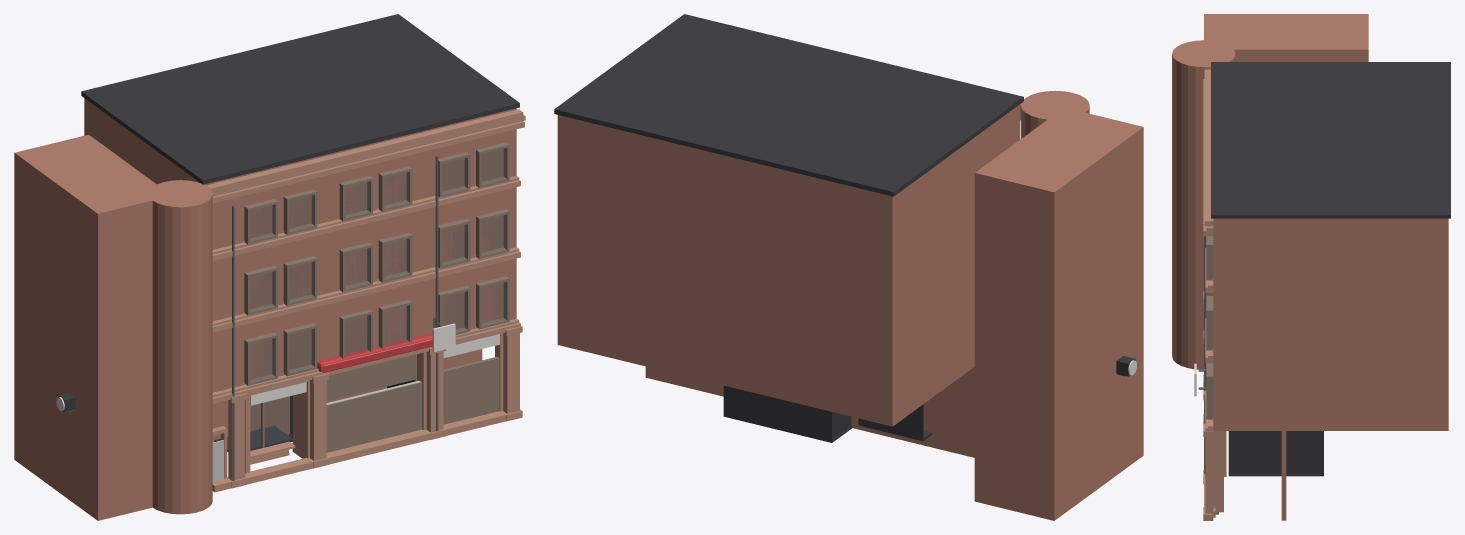
Rendered from real-camera-blockout.glb.
3 renders of one model, left to right at view 1: azimuth 30°, elevation 25°; view 2: azimuth 150°, elevation 25°; view 3: azimuth 270°, elevation 25°, orthographic. The views are drawn at different scales.
Visible parts, largest first — view 1: RC_CornerReturnWing, RC_MainVolume, RC_RoofCap, RC_CornerMass, RC_LowerShutter_Frame, RC_AdjacentShutter_Frame, RC_GroundPlinth, RC_Cornice_TopCap, RC_MainWindowFrame, RC_Cornice_LowerBand, RC_GroundFloor_BackWall, RC_StringCourse_Floor2_Band (+37 smaller); view 2: RC_MainVolume, RC_CornerReturnWing, RC_RoofCap, RC_GroundFloor_BackWall, RC_MainShop_InteriorWall_Back, RC_CornerMass, RC_GalleryEntrance_InteriorBack; view 3: RC_MainVolume, RC_RoofCap, RC_CornerMass, RC_CornerReturnWing, RC_MainShop_InteriorWall_R, RC_Cornice_TopCap, RC_AdjacentShopfront_Reveal_R, RC_Pilaster_03_Shaft, RC_GroundFloor_BackWall, RC_Downpipe_A, RC_Cornice_LowerBand, RC_MainShop_InteriorFloor (+1 smaller).
Part boxes in pixels (x1=…): RC_CornerReturnWing: x1=14, y1=134, x2=171, y2=520; RC_MainVolume: x1=84, y1=98, x2=516, y2=392; RC_RoofCap: x1=81, y1=14, x2=519, y2=184; RC_CornerMass: x1=148, y1=180, x2=212, y2=514; RC_LowerShutter_Frame: x1=326, y1=381, x2=422, y2=452; RC_AdjacentShutter_Frame: x1=443, y1=356, x2=499, y2=424; RC_GroundPlinth: x1=212, y1=411, x2=514, y2=492; RC_Cornice_TopCap: x1=206, y1=109, x2=523, y2=192; RC_MainWindowFrame: x1=326, y1=354, x2=416, y2=400; RC_Cornice_LowerBand: x1=212, y1=121, x2=524, y2=203; RC_GroundFloor_BackWall: x1=212, y1=349, x2=482, y2=442; RC_StringCourse_Floor2_Band: x1=212, y1=251, x2=520, y2=332; RC_MainVolume: x1=557, y1=104, x2=1020, y2=426; RC_CornerReturnWing: x1=974, y1=108, x2=1143, y2=520; RC_RoofCap: x1=554, y1=14, x2=1023, y2=196; RC_GroundFloor_BackWall: x1=645, y1=366, x2=974, y2=457; RC_MainShop_InteriorWall_Back: x1=723, y1=385, x2=833, y2=442; RC_CornerMass: x1=1021, y1=90, x2=1089, y2=138; RC_GalleryEntrance_InteriorBack: x1=858, y1=404, x2=923, y2=439; RC_MainVolume: x1=1213, y1=218, x2=1448, y2=430; RC_RoofCap: x1=1211, y1=62, x2=1450, y2=218; RC_CornerMass: x1=1172, y1=40, x2=1235, y2=369; RC_CornerReturnWing: x1=1204, y1=14, x2=1368, y2=61; RC_MainShop_InteriorWall_R: x1=1228, y1=431, x2=1321, y2=473; RC_Cornice_TopCap: x1=1204, y1=69, x2=1213, y2=226; RC_AdjacentShopfront_Reveal_R: x1=1213, y1=431, x2=1223, y2=512; RC_Pilaster_03_Shaft: x1=1205, y1=437, x2=1213, y2=513; RC_GroundFloor_BackWall: x1=1281, y1=431, x2=1286, y2=520; RC_Downpipe_A: x1=1204, y1=236, x2=1206, y2=473; RC_Cornice_LowerBand: x1=1203, y1=79, x2=1213, y2=236; RC_MainShop_InteriorFloor: x1=1228, y1=473, x2=1322, y2=476.
Bounding box in the file's own units: 21.43 × 14.48 × 11.85.
